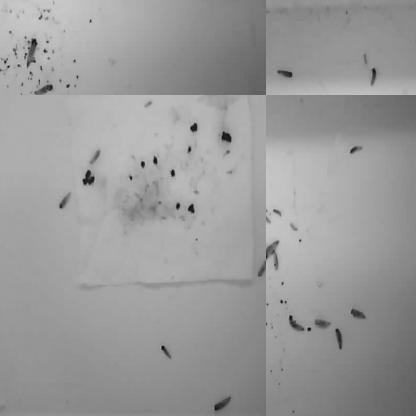PtecticusTenebrifer: (288, 314, 306, 336), (215, 394, 233, 415), (26, 36, 37, 68), (266, 239, 279, 261), (57, 191, 72, 210), (33, 84, 53, 95), (276, 69, 296, 80), (335, 327, 344, 351), (160, 346, 173, 362), (350, 308, 366, 321), (88, 148, 100, 165), (349, 144, 365, 156), (257, 259, 266, 279), (315, 320, 333, 330), (272, 250, 280, 270), (371, 66, 378, 86), (266, 256, 274, 270), (5, 0, 22, 6), (272, 208, 282, 218), (266, 258, 272, 274), (266, 339, 273, 352), (64, 0, 82, 5), (0, 0, 12, 7), (290, 222, 298, 231), (266, 215, 272, 227), (0, 62, 4, 79), (266, 185, 270, 202), (71, 0, 87, 4), (266, 192, 273, 201), (266, 212, 272, 222), (266, 95, 274, 101), (0, 0, 6, 5)
